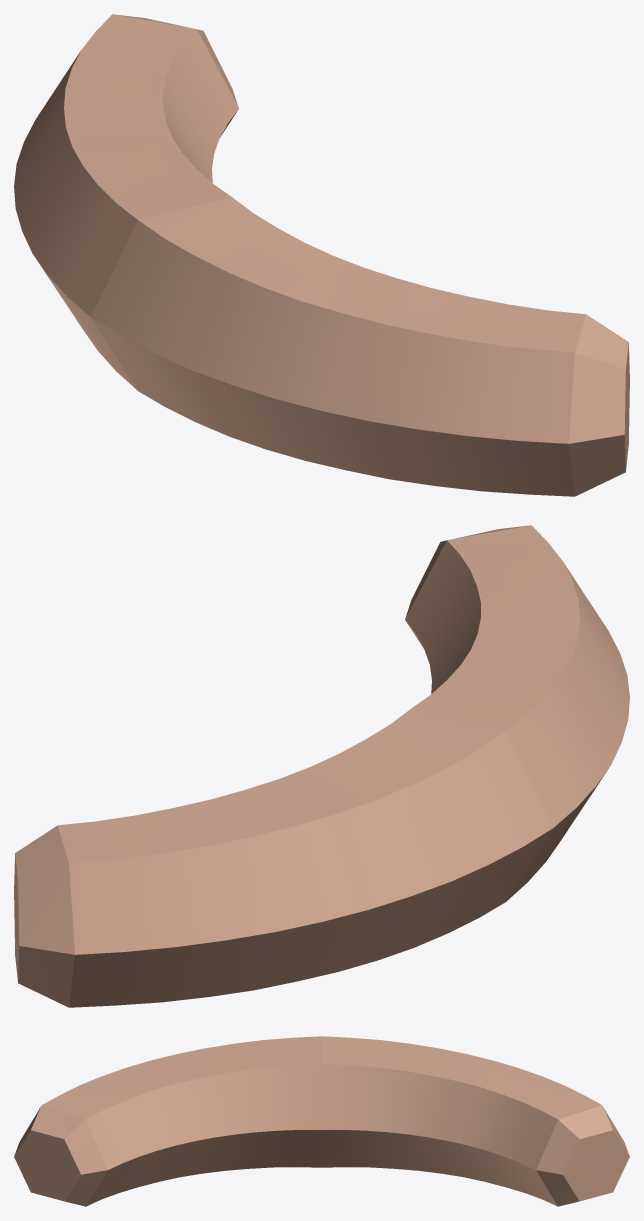
The picture shows the model from 3 angles, top to bottom: view 1: azimuth 30°, elevation 25°; view 2: azimuth 150°, elevation 25°; view 3: azimuth 270°, elevation 25°; orthographic projection. The views are drawn at different scales.
Visible parts, largest first — view 1: meatSausage; view 2: meatSausage; view 3: meatSausage.
Part boxes in pixels (x1=…): meatSausage: x1=14, y1=14, x2=629, y2=496; meatSausage: x1=14, y1=525, x2=629, y2=1007; meatSausage: x1=14, y1=1036, x2=629, y2=1206.
Bounding box in the file's own units: 0.1515 × 0.0727 × 0.3916.
